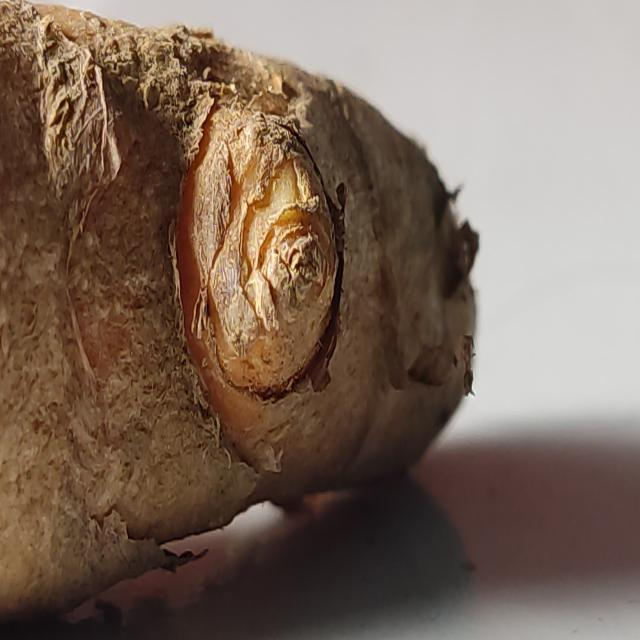ginger: (7, 3, 470, 581)
